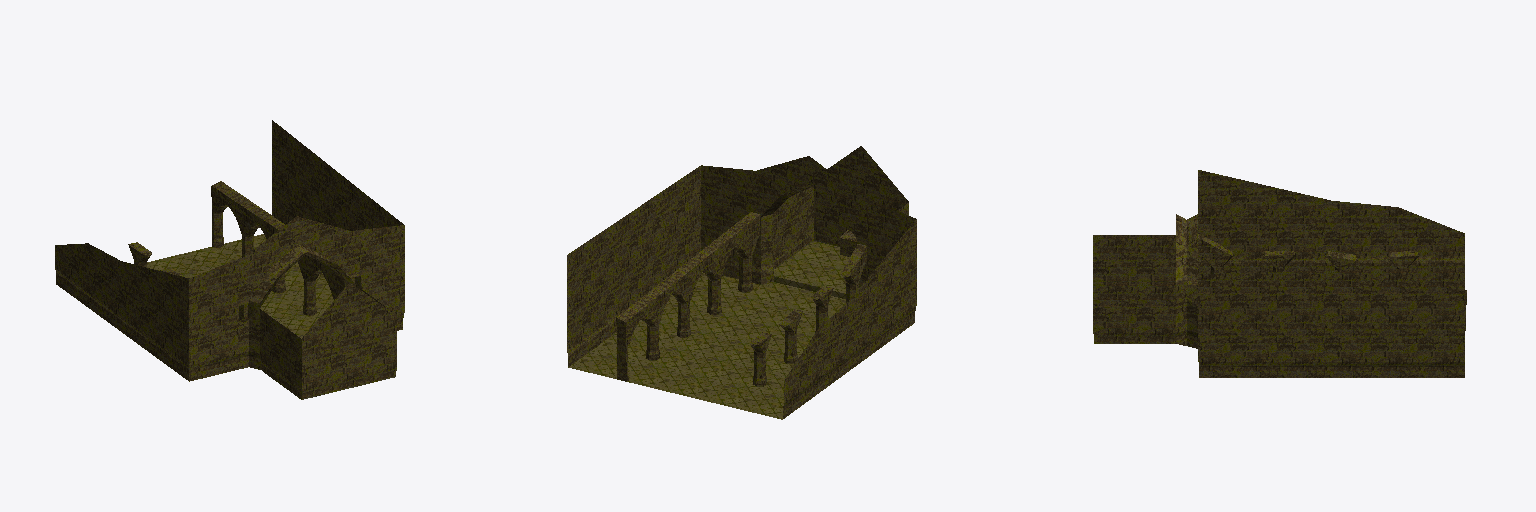
The picture shows the model from 3 angles: view 1: azimuth 30°, elevation 25°; view 2: azimuth 150°, elevation 25°; view 3: azimuth 270°, elevation 25°; orthographic projection.
Parts seen in each view (by area): view 1: texture_2; view 2: texture_2; view 3: texture_2.
Part boxes in pixels (x1,y1,x2,y2): texture_2: (55,120,404,399); texture_2: (567,146,916,419); texture_2: (1093,170,1466,377).
Bounding box in the file's own units: 8.11 × 5 × 12.1.
Materials: 2 (2 with a texture image).